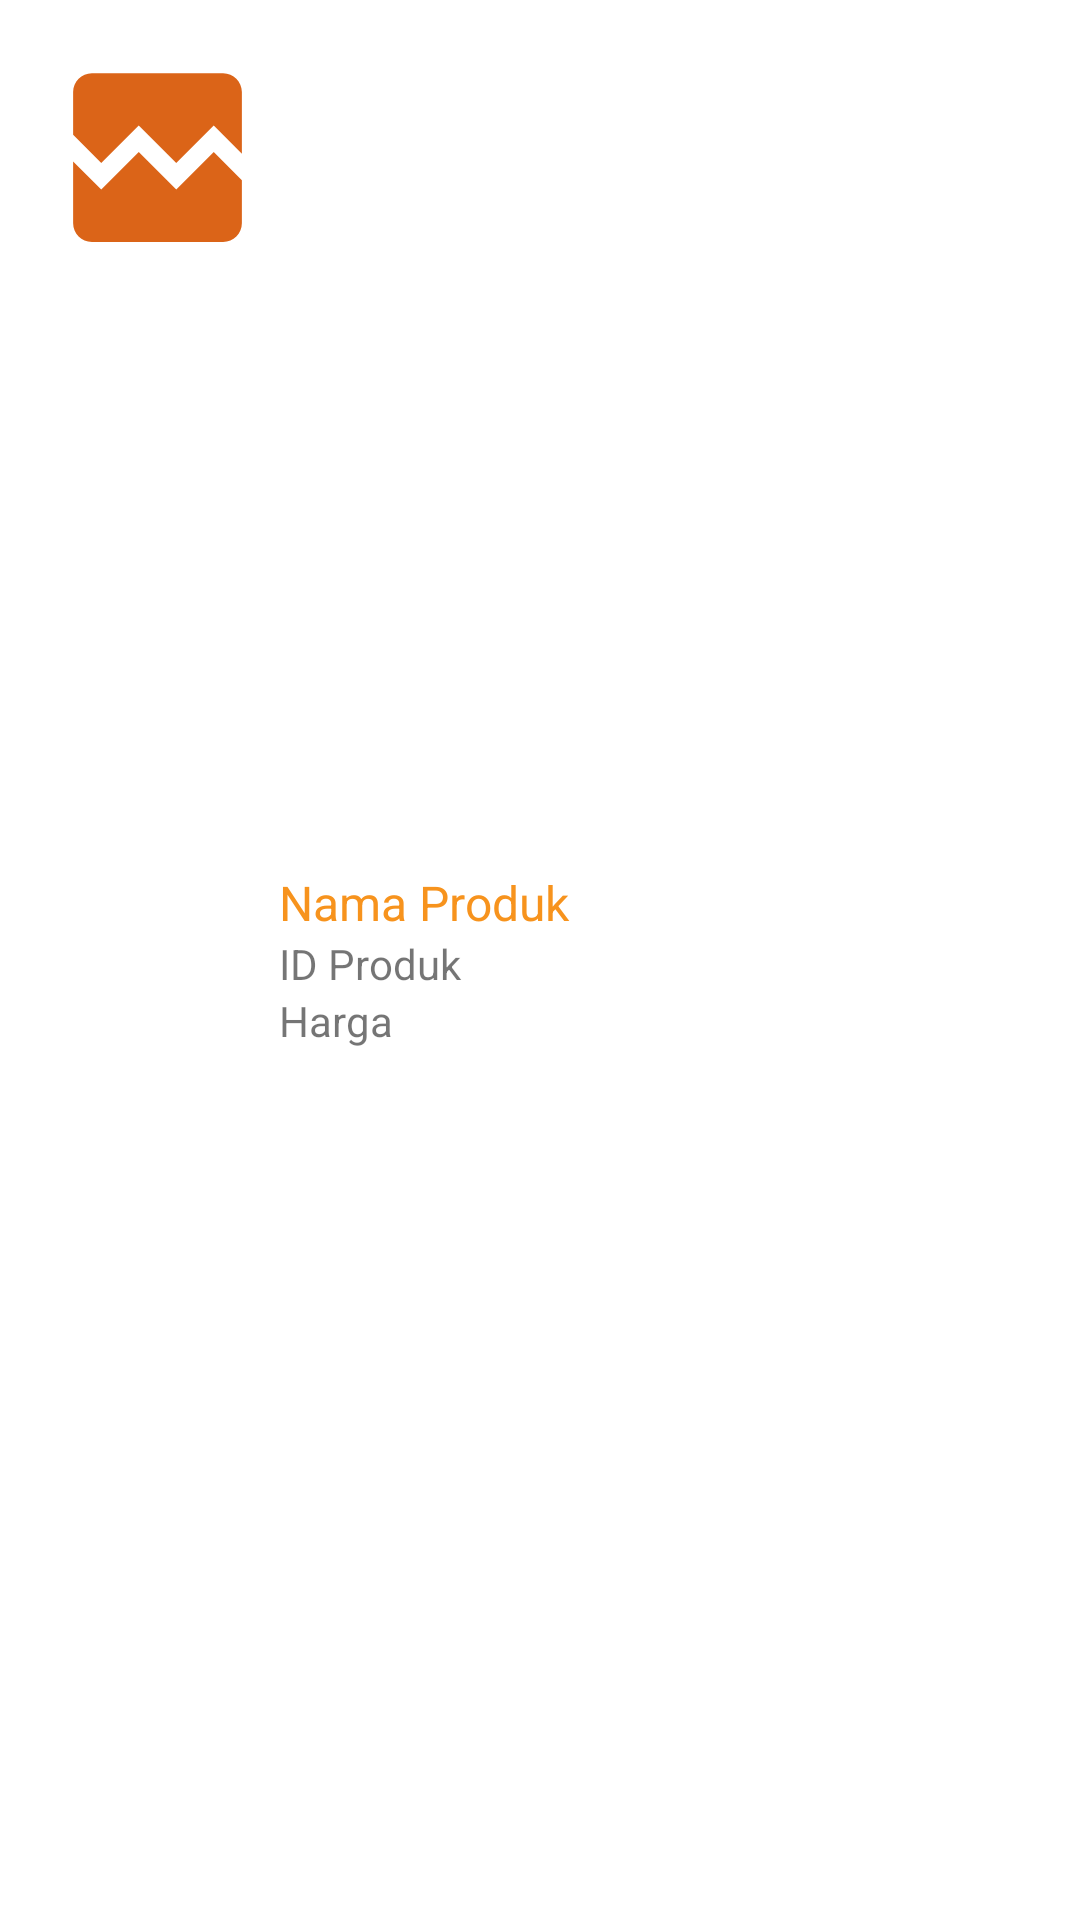

Named icons in this screenshot (1080w x 1920h) and their centers, (x,y):
brokenimage: (157,157)
